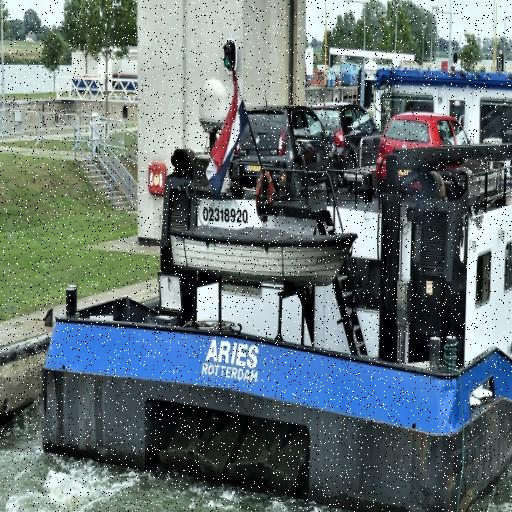tugboat: (40, 61, 512, 512)
